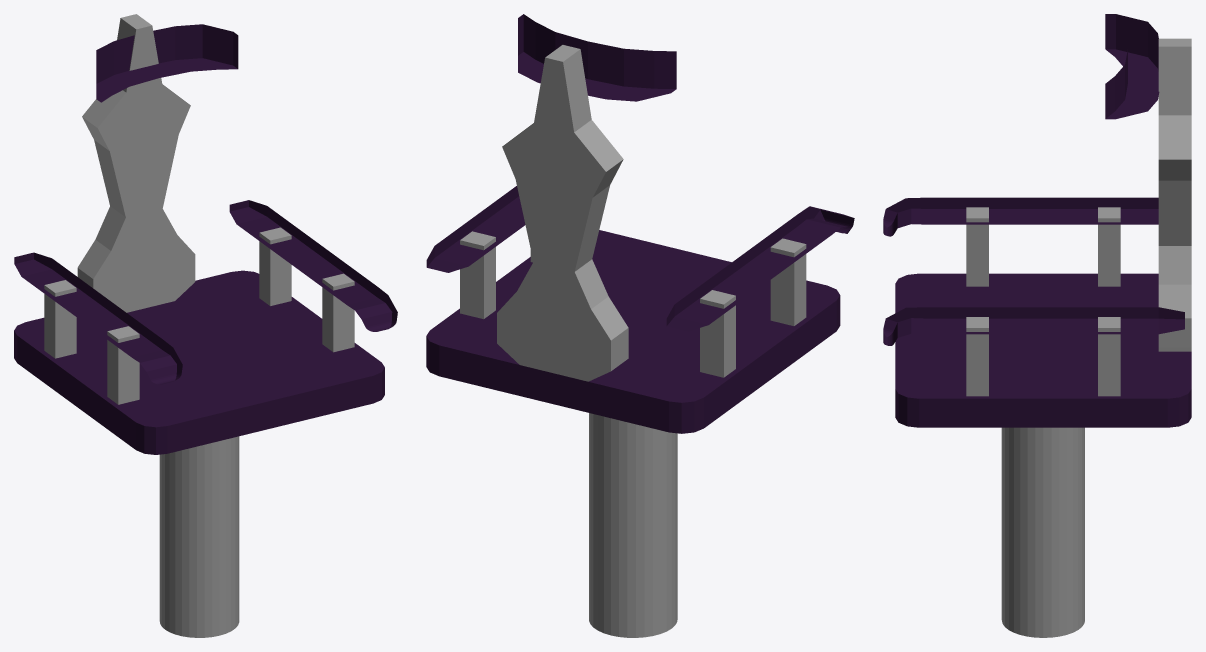
The model's file is chair.glb.
3 views of the same model, side by side, from view 1: azimuth 30°, elevation 25°; view 2: azimuth 150°, elevation 25°; view 3: azimuth 270°, elevation 25° (orthographic). The views are drawn at different scales.
Visible parts, largest first — view 1: Cube; view 2: Cube; view 3: Cube.
Part boxes in pixels (left/top/right/bottom): Cube: left=14, top=14, right=397, bottom=637; Cube: left=426, top=14, right=854, bottom=637; Cube: left=883, top=14, right=1191, bottom=637.
Bounding box in the file's own units: 0.571 × 1.23 × 0.5939.
Materials: 1 (1 with a texture image).
